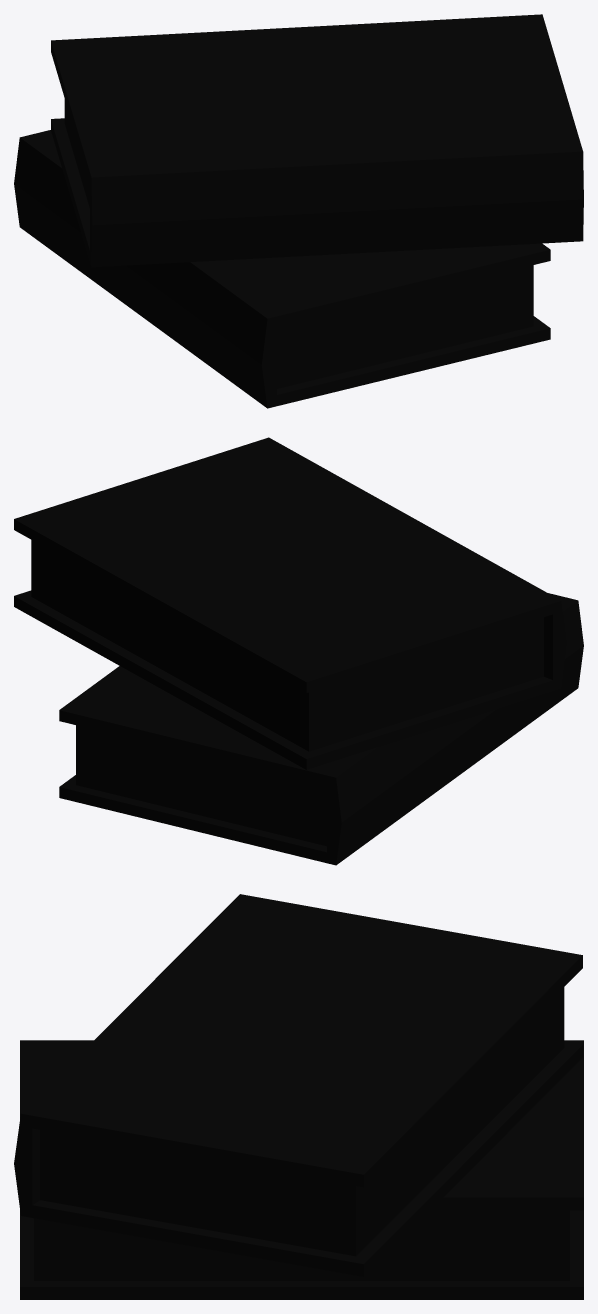
Rendered from SM_Book_4.obj.
3 views of the same model, one above another, from view 1: azimuth 30°, elevation 25°; view 2: azimuth 150°, elevation 25°; view 3: azimuth 270°, elevation 25° (orthographic). The views are drawn at different scales.
Visible parts, largest first — view 1: SM_Book_4_M_Texture_Atlas; view 2: SM_Book_4_M_Texture_Atlas; view 3: SM_Book_4_M_Texture_Atlas.
Part boxes in pixels (left/top/right/bottom): SM_Book_4_M_Texture_Atlas: left=14, top=14, right=583, bottom=408; SM_Book_4_M_Texture_Atlas: left=14, top=437, right=583, bottom=865; SM_Book_4_M_Texture_Atlas: left=14, top=894, right=583, bottom=1299.
Size of the model in its own units: 0.5915 by 0.2 by 0.5053.
